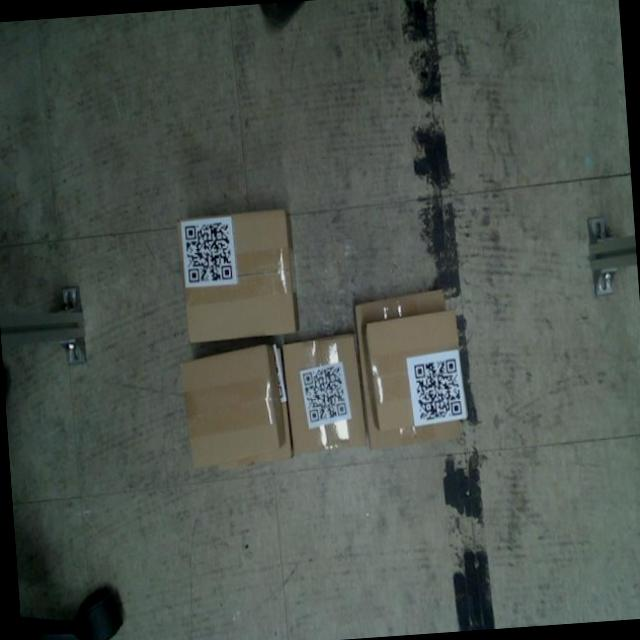box: (171, 204, 304, 346), (358, 306, 470, 434), (176, 339, 286, 468), (278, 330, 369, 463)
